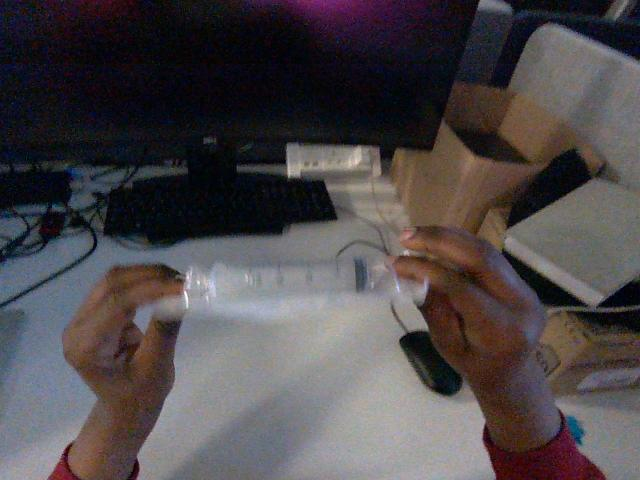syringe: (185, 257, 427, 304)
